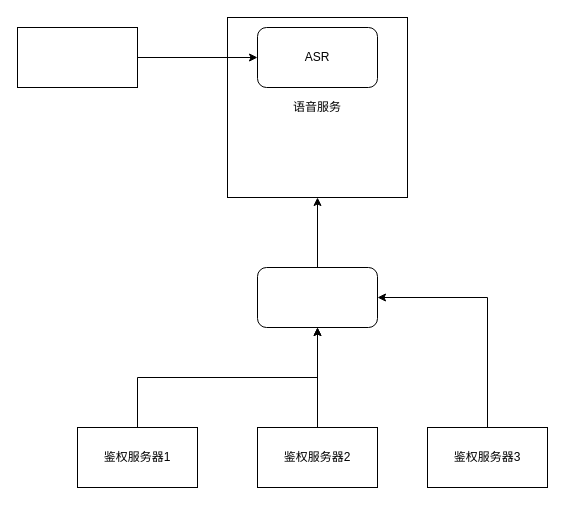
Image size: 565x505. Some labels were removed from this diagram. The centre of each missing label's shape, as x and y in pixels:
bns: the point at 317,297
语音板: the point at 77,57
